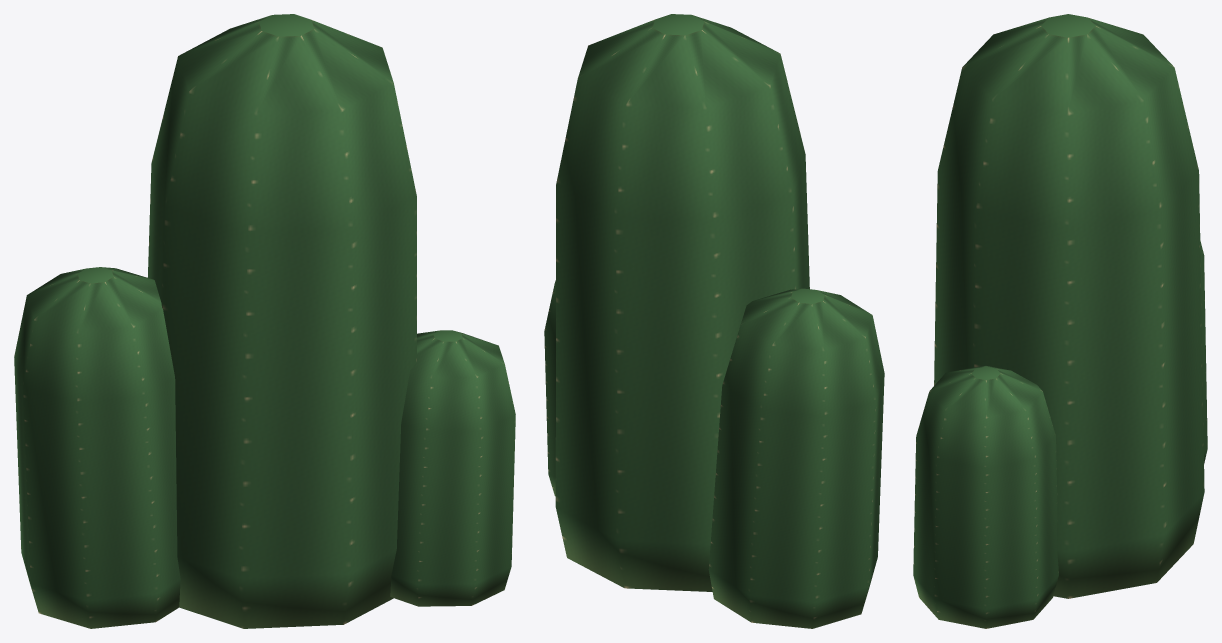
The model's file is Cactus Cluster LOD.fbx.
3 renders of one model, left to right at view 1: azimuth 30°, elevation 25°; view 2: azimuth 150°, elevation 25°; view 3: azimuth 270°, elevation 25°, orthographic. The views are drawn at different scales.
Parts seen in each view (by area): view 1: Cactus Cluster LOD; view 2: Cactus Cluster LOD; view 3: Cactus Cluster LOD.
Boxes of the visible parts, box(x1,y1,x2,y2) form: Cactus Cluster LOD: box(14, 14, 515, 628); Cactus Cluster LOD: box(544, 14, 884, 628); Cactus Cluster LOD: box(913, 14, 1207, 628).
Bounding box in the file's own units: 72.04 × 91.8 × 46.5.
